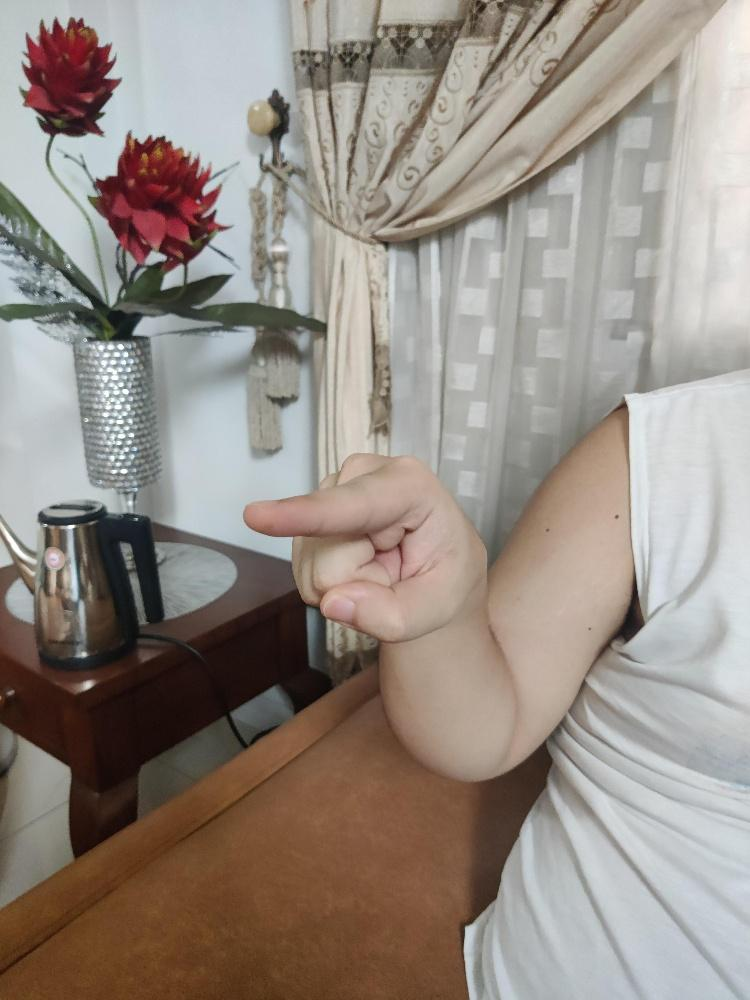z: (240, 449, 488, 644)
